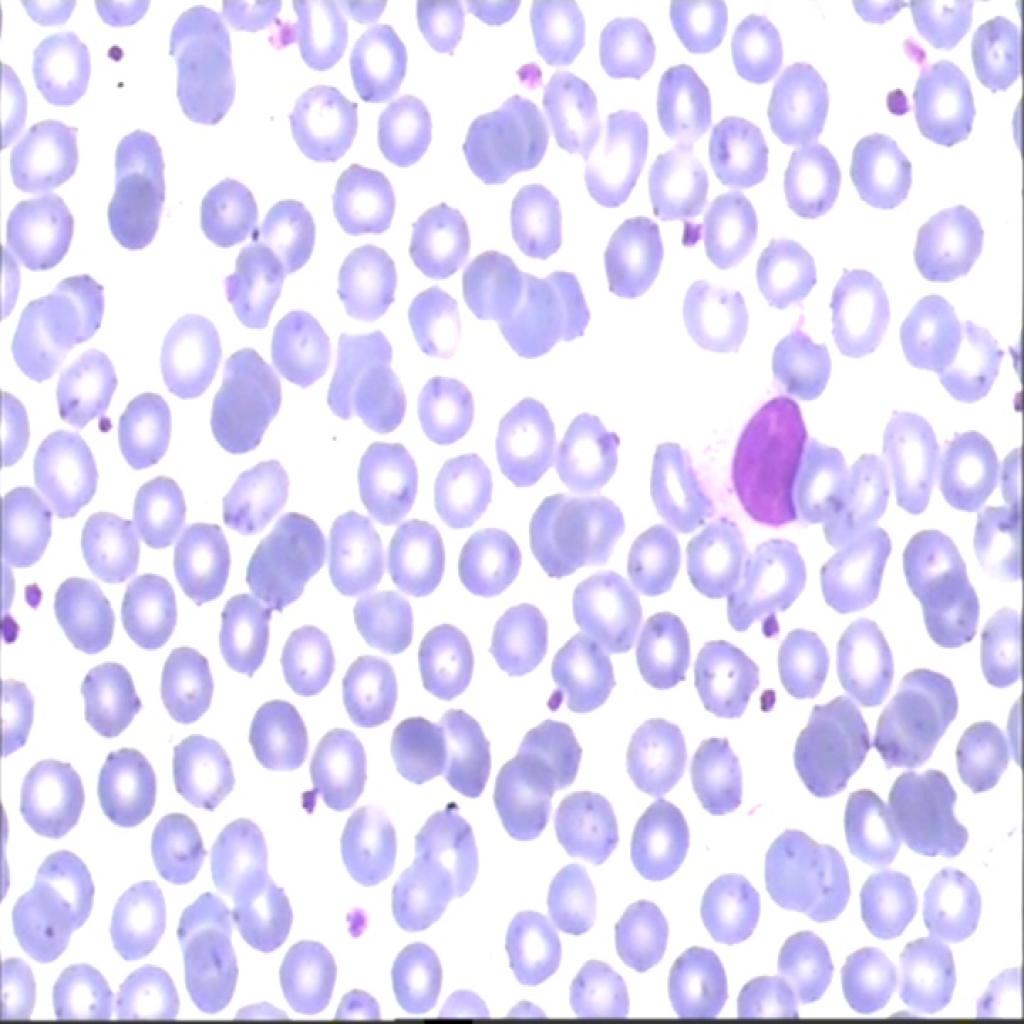Monosit: (710, 372, 812, 544)
Platelet: (528, 668, 572, 724), (96, 34, 142, 76), (508, 50, 548, 98), (336, 900, 372, 948), (21, 567, 50, 621), (671, 212, 704, 258), (878, 78, 910, 123), (900, 30, 928, 73), (300, 774, 326, 820), (265, 16, 297, 50), (757, 676, 778, 726), (0, 610, 21, 658), (757, 604, 778, 646), (91, 409, 115, 441)
